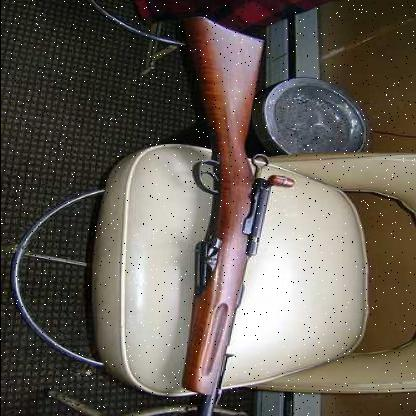rifle: (155, 15, 292, 415)
